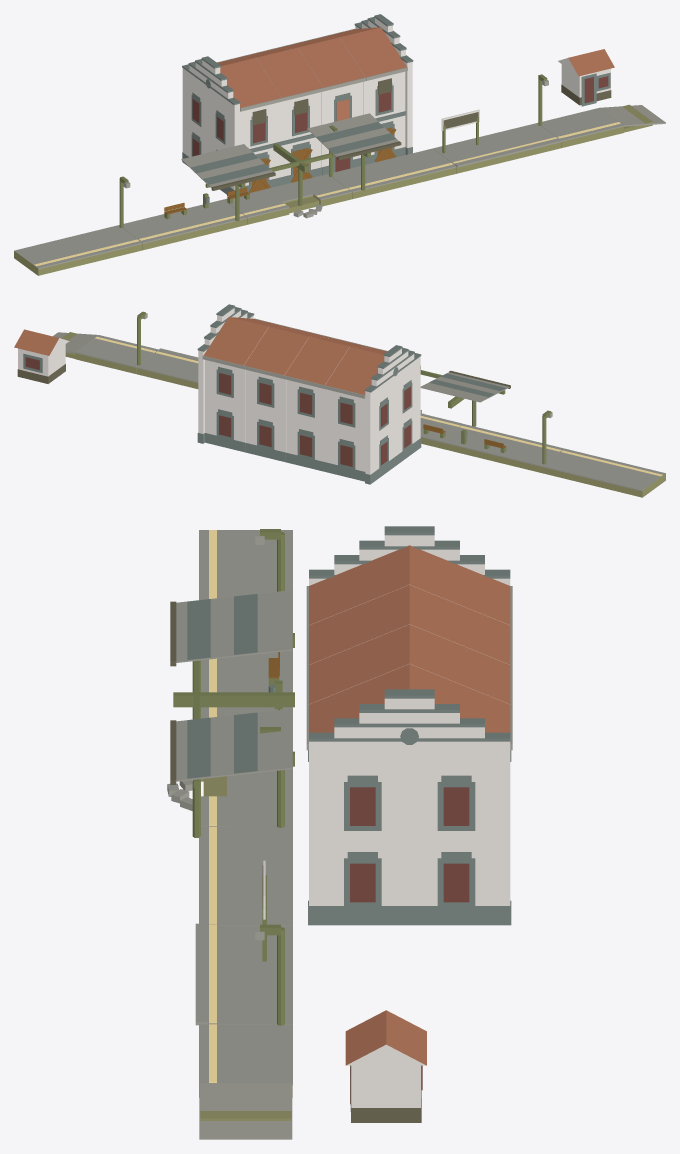
Rendered from SM_EstacionNules_v2_LOD1.fbx.
3 views of the same model, one above another, from view 1: azimuth 30°, elevation 25°; view 2: azimuth 150°, elevation 25°; view 3: azimuth 270°, elevation 25° (orthographic). The views are drawn at different scales.
Visible parts, largest first — view 1: SM_bloques.estacion_nules_v2_LOD1; view 2: SM_bloques.estacion_nules_v2_LOD1; view 3: SM_bloques.estacion_nules_v2_LOD1.
Part boxes in pixels (x1=…): SM_bloques.estacion_nules_v2_LOD1: x1=14, y1=14, x2=665, y2=275; SM_bloques.estacion_nules_v2_LOD1: x1=14, y1=304, x2=665, y2=497; SM_bloques.estacion_nules_v2_LOD1: x1=167, y1=526, x2=512, y2=1139.
Size of the model in its own units: 59.99 by 11 by 14.75.
